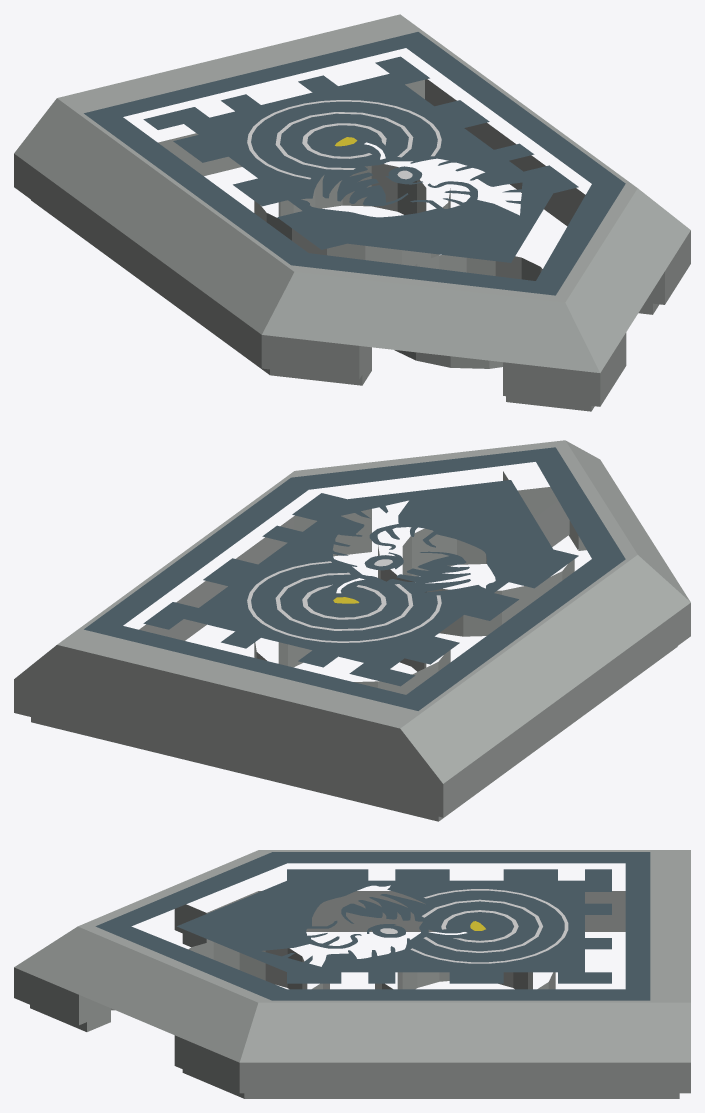
3 renders of one model, top to bottom at view 1: azimuth 30°, elevation 25°; view 2: azimuth 150°, elevation 25°; view 3: azimuth 270°, elevation 25°, orthographic. The views are drawn at different scales.
Visible parts, largest first — view 1: world; view 2: world; view 3: world.
Boxes of the visible parts, <box> form: world: <box>14,14,690,411</box>; world: <box>14,440,690,821</box>; world: <box>14,850,690,1098</box>.
Bounding box in the file's own units: 0.016 × 0.0032 × 0.024.
